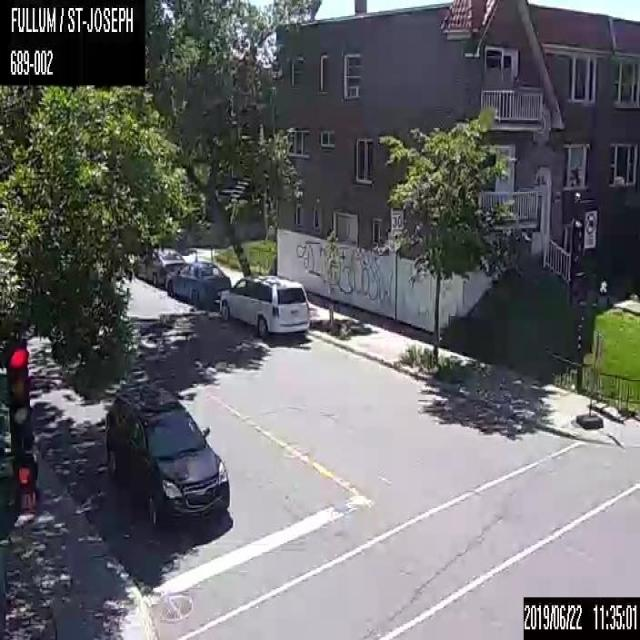construction: (576, 330, 604, 429)
vehicle: (103, 379, 231, 533), (219, 275, 313, 340), (166, 260, 230, 304), (132, 248, 185, 286)
